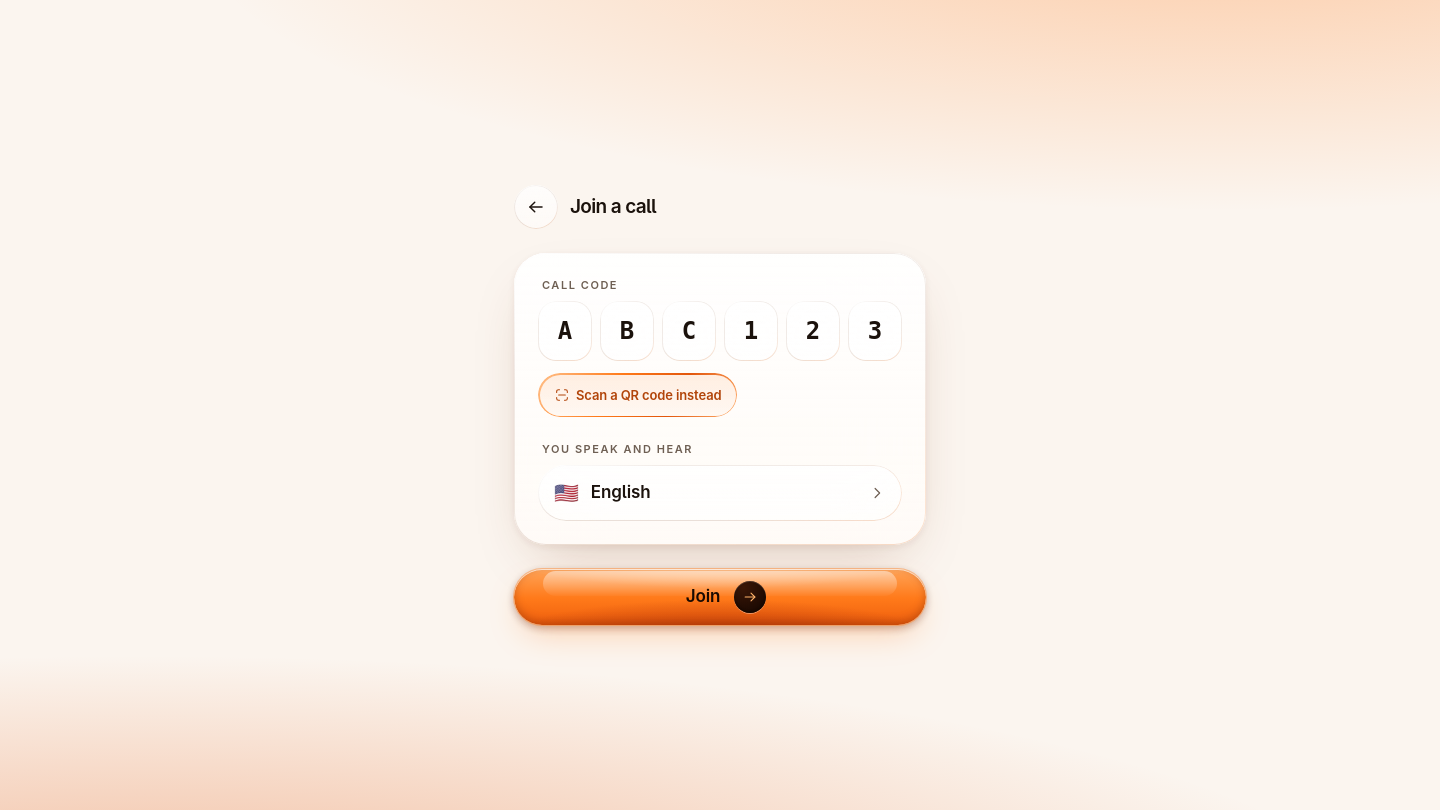
Test: JoinCall › server unreachable shows an error and re-enables Join
The width and height of the screenshot is (1440, 810).
Click the button "Join".
click(720, 597)  # box [514,569,926,625]
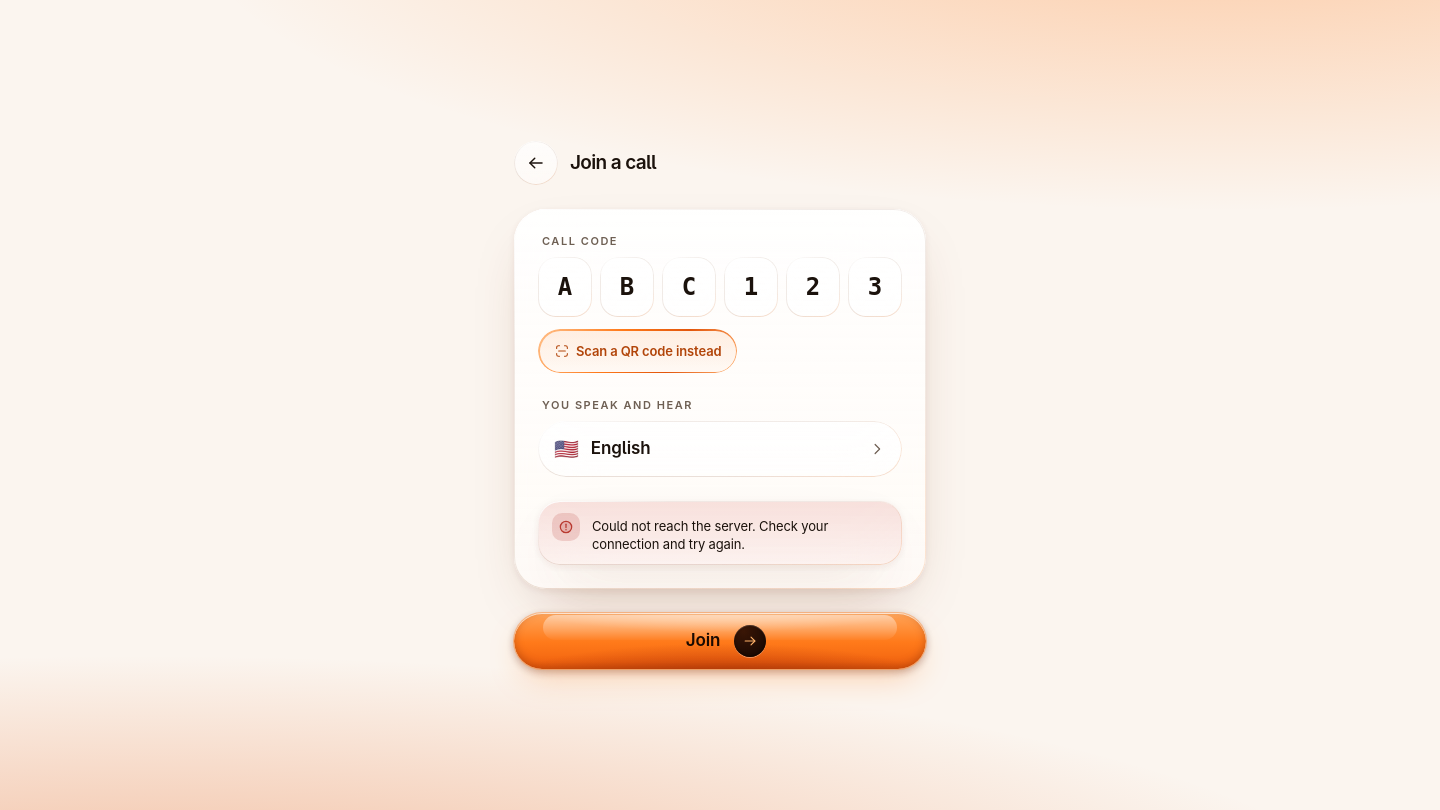
Expected: the button "Join" is enabled, [514,613,926,669]
Result: the message shows "Could not reach the server" at [592,518,828,552]
